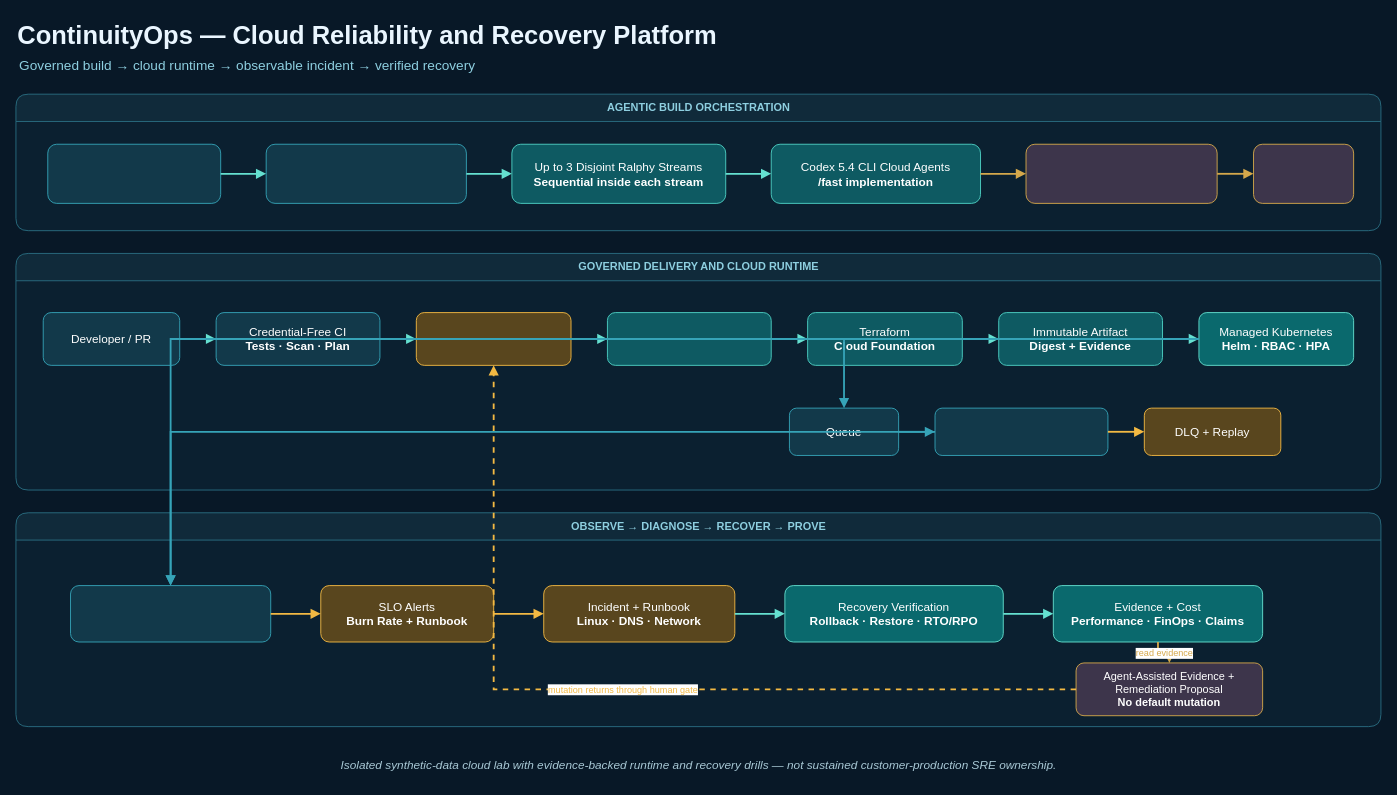
This 1397x795 diagram has some shape labels left out. The shapes that lost their labels are listed below. From the top down, each one's centre as x and y in pixels, then its label:
point (134, 173): Opus 4.8 Supervisor + optional Claude co-orchs
point (365, 173): Grok 4.5 High Fast Ralphy + Councils
point (1121, 173): Saved Repair Council → Fresh Judge Council
point (1303, 173): Append-Only Break/Fix + Evidence
point (493, 338): Protected Main Human Gate
point (689, 338): GitHub OIDC Short-Lived Identity
point (1021, 431): Serverless Worker Retry · Idempotency
point (170, 613): Metrics + Logs + Traces Correlation + Redaction
